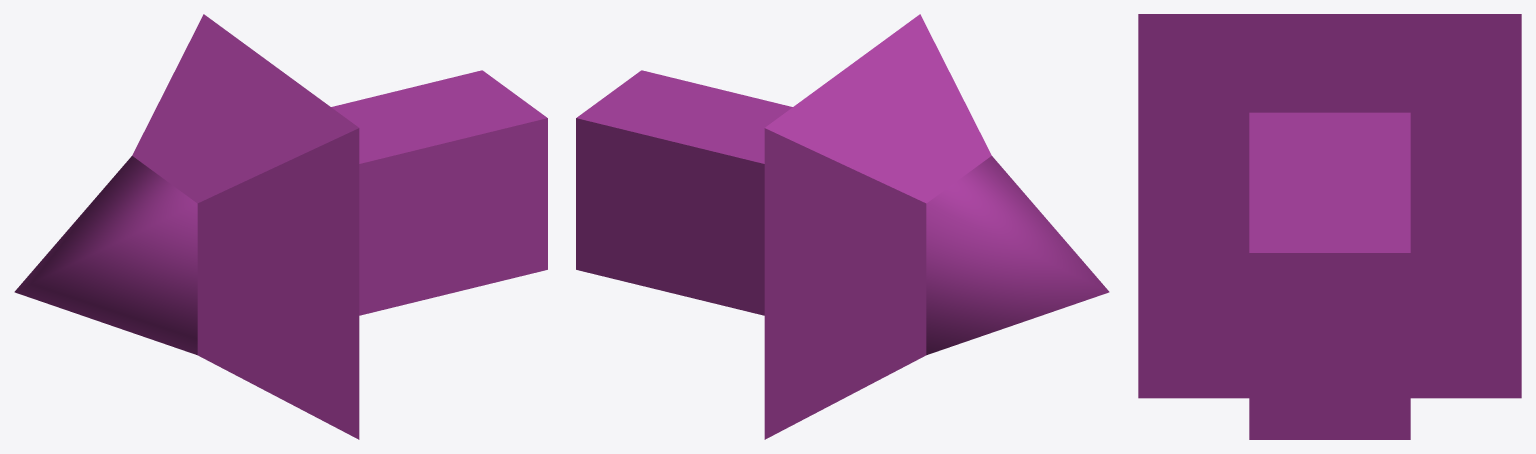
Rendered from arrow.fbx.
3 views of the same model, side by side, from view 1: azimuth 30°, elevation 25°; view 2: azimuth 150°, elevation 25°; view 3: azimuth 270°, elevation 25° (orthographic). The views are drawn at different scales.
Visible parts, largest first — view 1: pCube1; view 2: pCube1; view 3: pCube1.
Boxes of the visible parts, x1,y1,x2,y2 form: pCube1: (14,14,547,439); pCube1: (576,14,1109,439); pCube1: (1138,14,1521,439).
Size of the model in its own units: 4.18 by 2.49 by 2.25.
